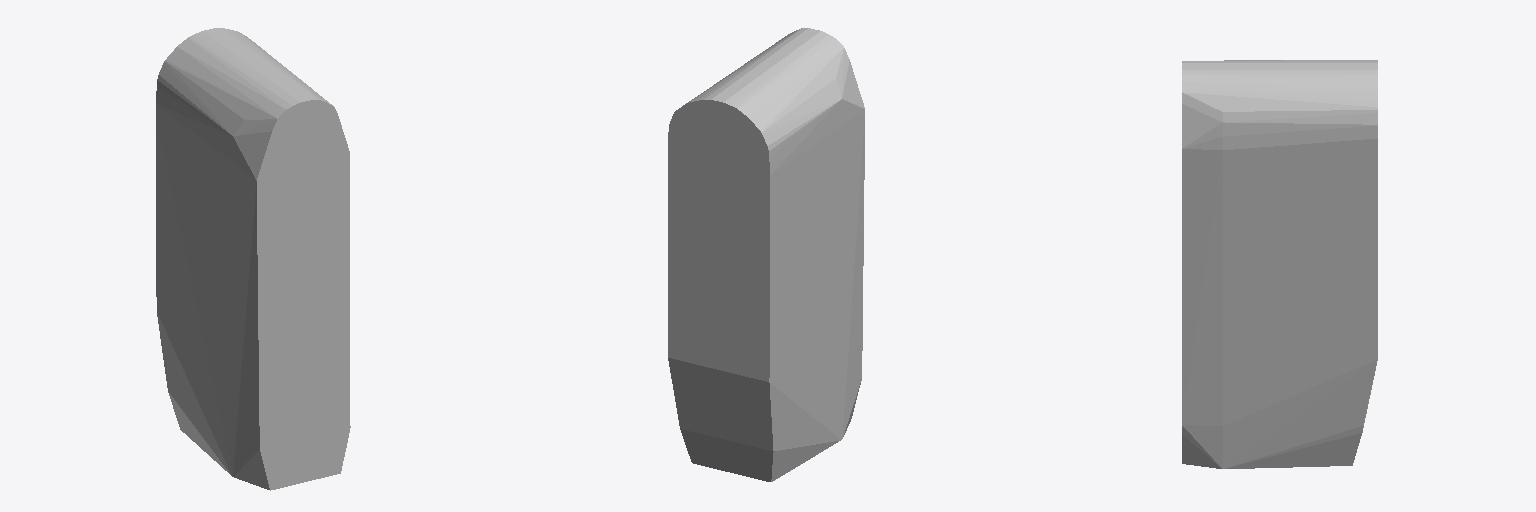
The model's file is Toaster_24_collision_21.obj.
3 views of the same model, side by side, from view 1: azimuth 30°, elevation 25°; view 2: azimuth 150°, elevation 25°; view 3: azimuth 270°, elevation 25° (orthographic).
Size of the model in its own units: 0.0293 by 0.1042 by 0.0486.